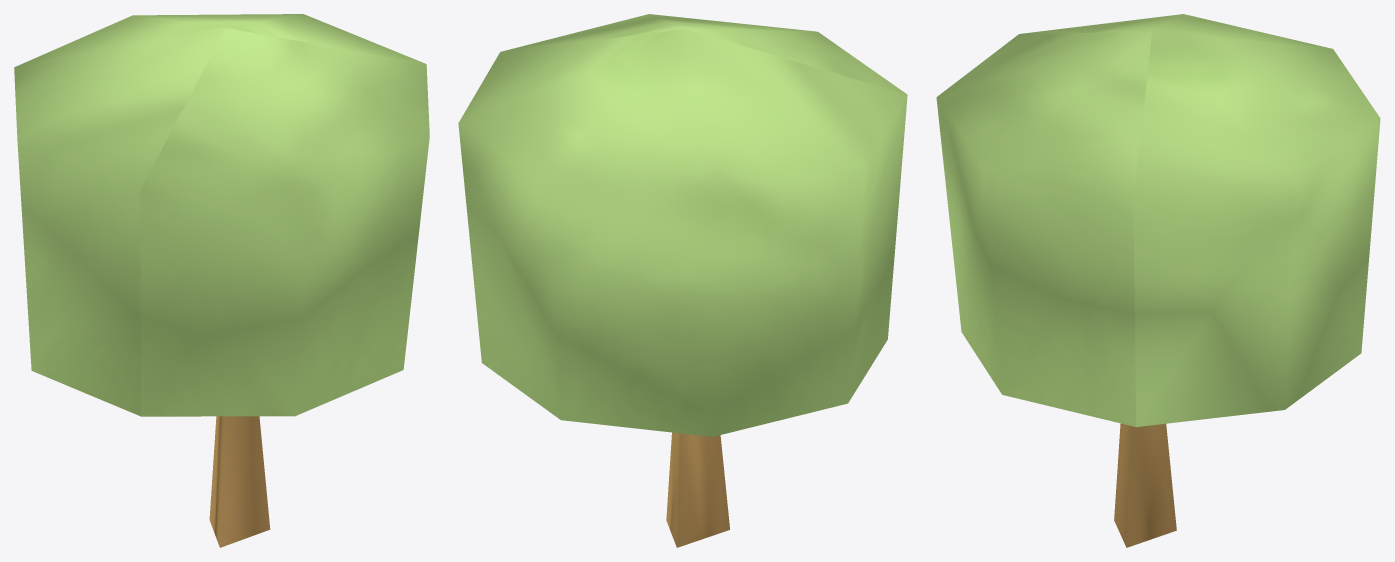
The picture shows the model from 3 angles, left to right: view 1: azimuth 30°, elevation 25°; view 2: azimuth 150°, elevation 25°; view 3: azimuth 270°, elevation 25°; orthographic projection.
Parts seen in each view (by area): view 1: LOD2Big tree; view 2: LOD2Big tree; view 3: LOD2Big tree.
Boxes of the visible parts, <box> form: LOD2Big tree: <box>14,14,429,547</box>; LOD2Big tree: <box>458,14,907,547</box>; LOD2Big tree: <box>936,14,1380,547</box>.
Size of the model in its own units: 15.32 by 19.04 by 15.32.
Materials: 1 (1 with a texture image).
